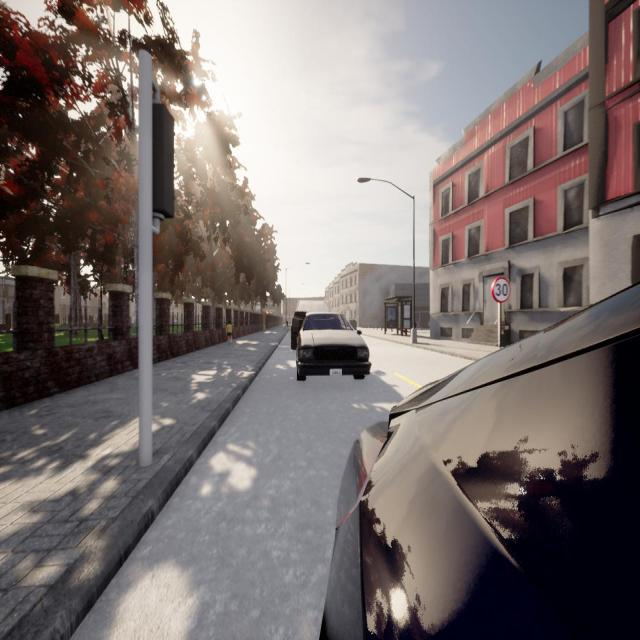Pedestrian: (225, 319, 236, 345)
Traffic_Signs: (491, 276, 510, 303)
Vehicle: (314, 271, 640, 640), (295, 312, 371, 381), (290, 300, 329, 350)
traffic_light: (147, 101, 175, 219)
